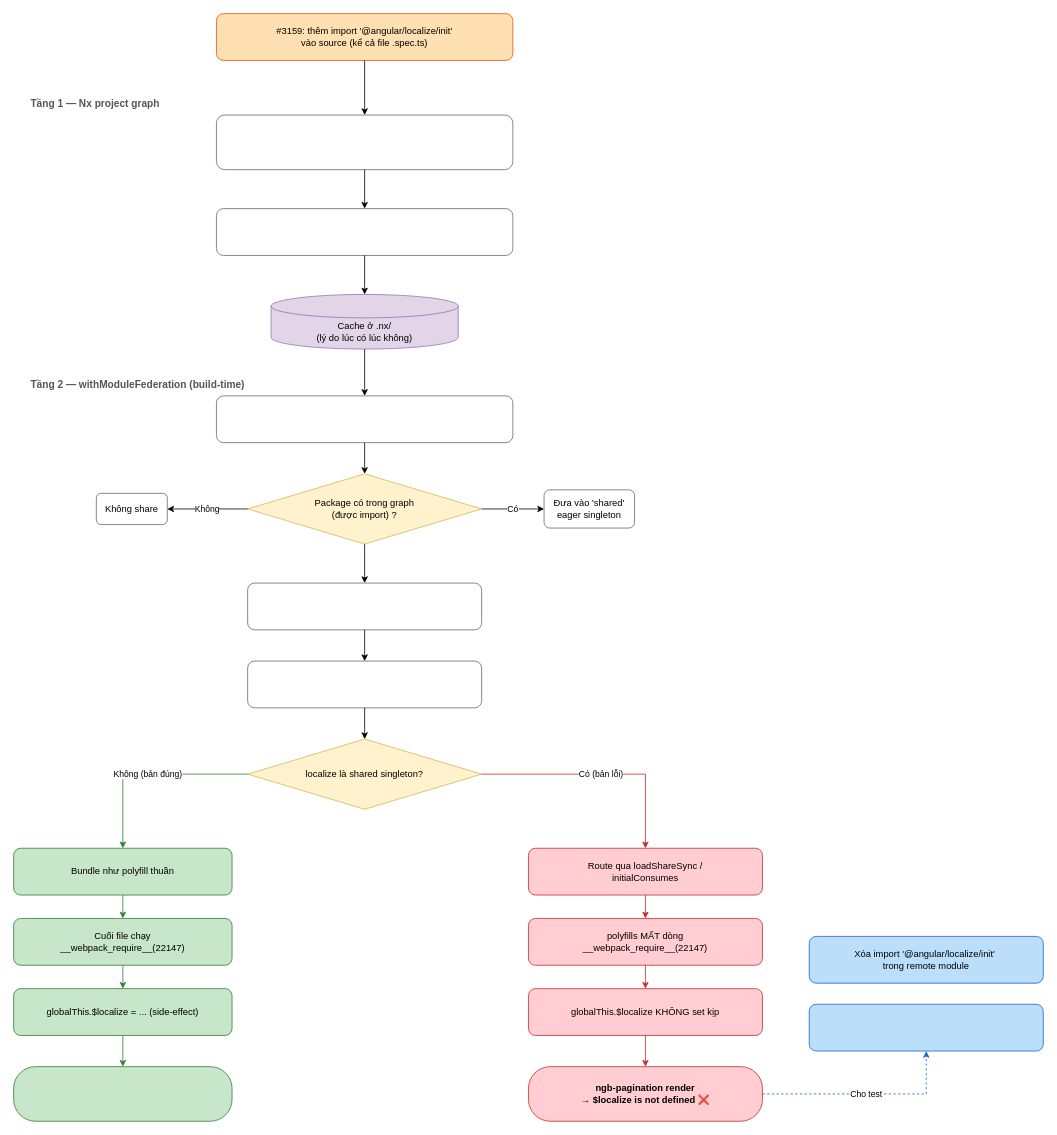
Image size: 1057x1135. Some labels were removed from this diagram. The shapes that lost their labels are listed below. From the top down, each one's centre as x and y in pixels, then its label:
At point (364, 142): "Phân tích tĩnh import quét TẤT CẢ file .ts (KHÔNG loại .spec.ts)".
At point (364, 231): "Tạo cạnh graph: app → external:@angular/localize".
At point (364, 419): "Đọc project graph (KHÔNG quét lại import)".
At point (364, 606): "librariesNotToShare chỉ override (loại trừ ở đây)".
At point (364, 684): "webpack ModuleFederationPlugin sinh polyfills.js".
At point (925, 1027): "Test (Jest): stub $localize trong test-setup.ts (KHÔNG import package)".
At point (122, 1093): "$localize sẵn sàng ✅".
